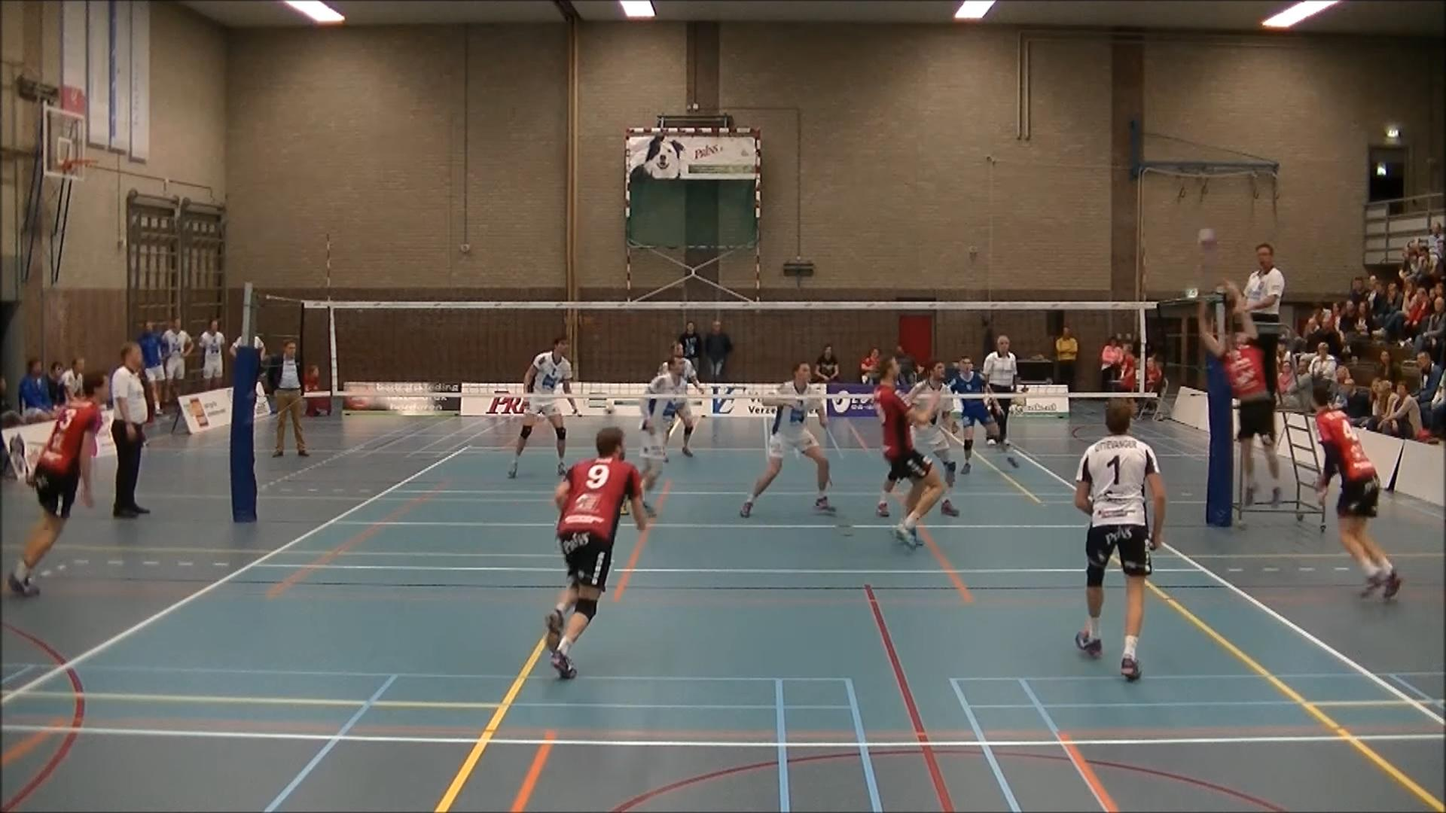alzata: (1195, 278, 1295, 508)
attacco: (864, 379, 968, 551)
